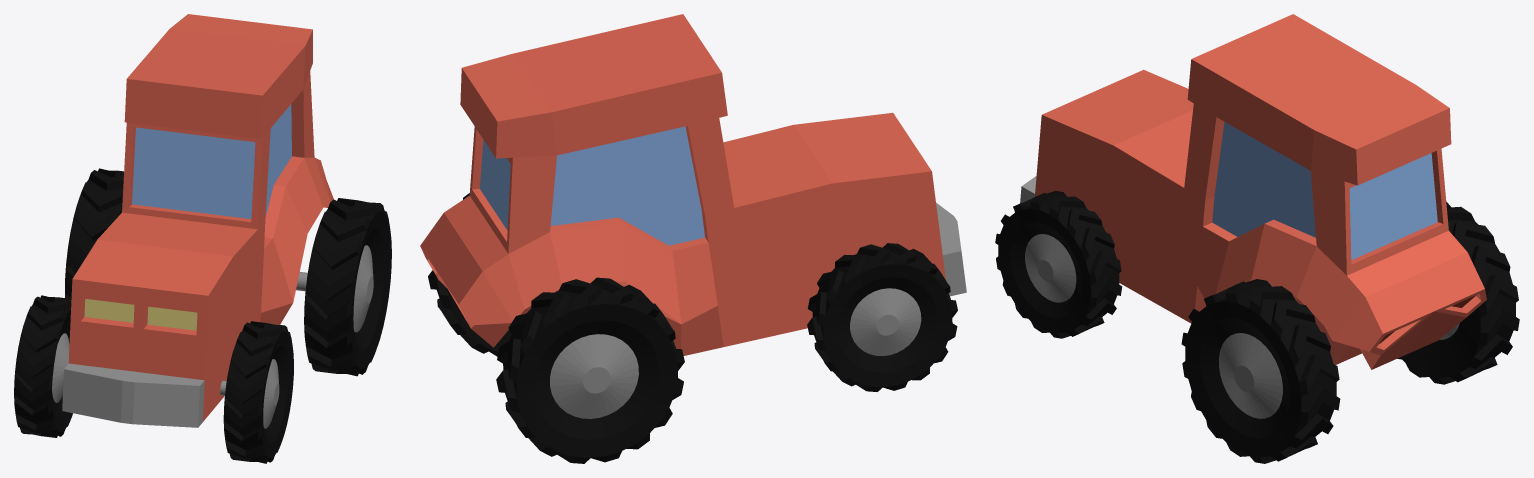
Rendered from tractor.fbx.
3 renders of one model, left to right at view 1: azimuth 30°, elevation 25°; view 2: azimuth 150°, elevation 25°; view 3: azimuth 270°, elevation 25°, orthographic. The views are drawn at different scales.
Parts seen in each view (by area): view 1: Cube; view 2: Cube; view 3: Cube.
Boxes of the visible parts, bbox=[...] form: Cube: bbox=[14, 14, 391, 463]; Cube: bbox=[420, 14, 966, 463]; Cube: bbox=[995, 14, 1519, 463].
Size of the model in its own units: 1084 by 767 by 1087.
